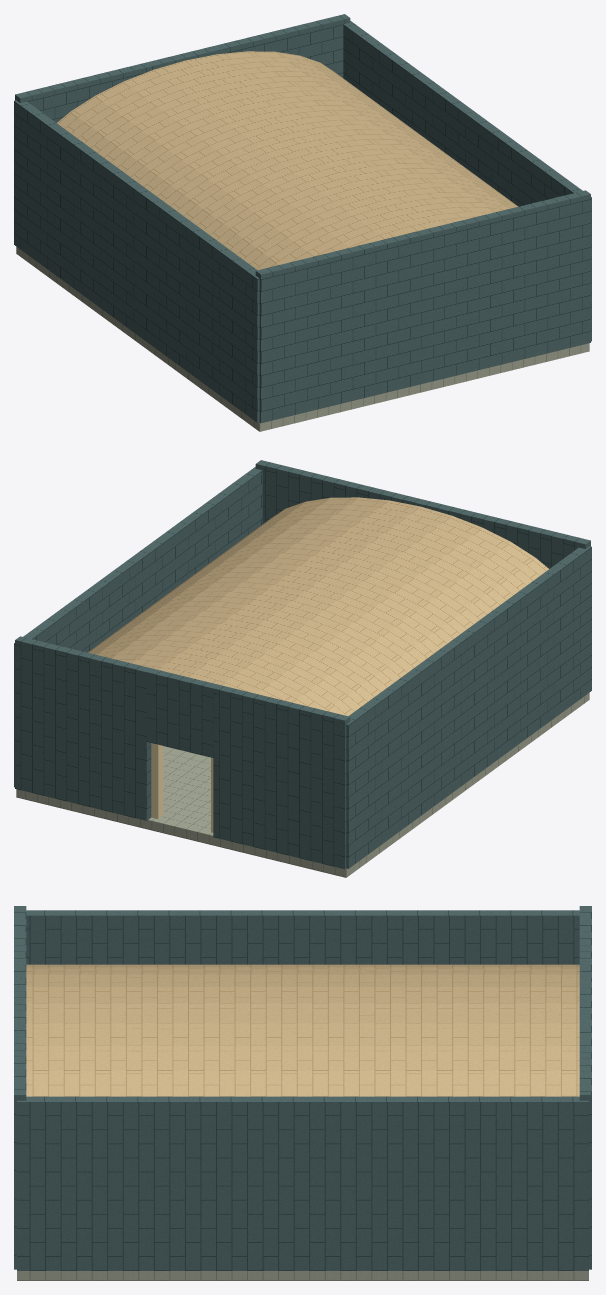
Rendered from district-cellar.obj.
3 views of the same model, one above another, from view 1: azimuth 30°, elevation 25°; view 2: azimuth 150°, elevation 25°; view 3: azimuth 270°, elevation 25° (orthographic). The views are drawn at different scales.
Bounding box in the file's own units: 14.6 × 6.6 × 18.6.
10 materials, 3 textured.
